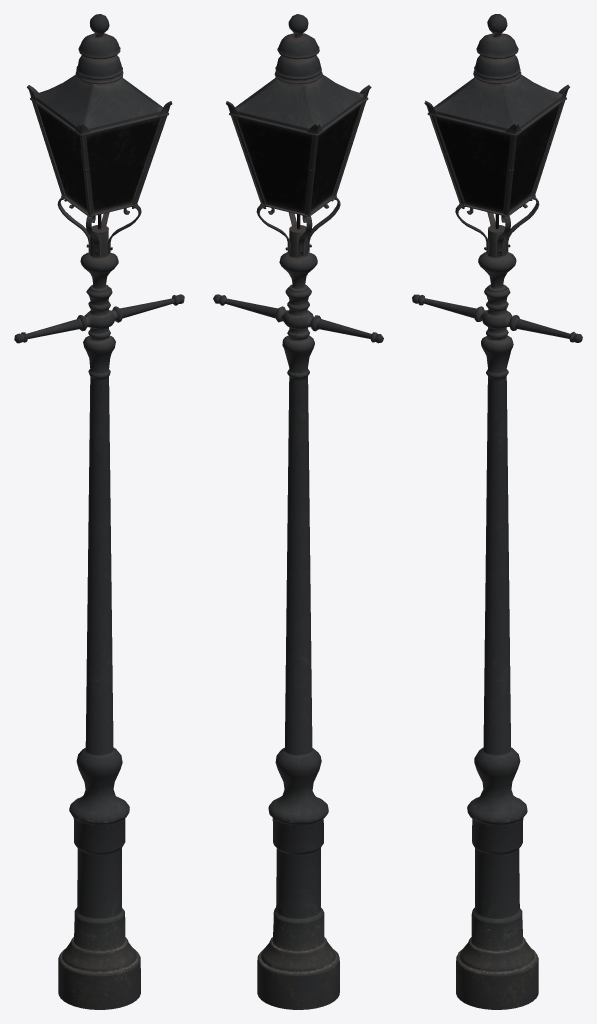
The model's file is street_lamp_01_lod2.glb.
3 renders of one model, left to right at view 1: azimuth 30°, elevation 25°; view 2: azimuth 150°, elevation 25°; view 3: azimuth 330°, elevation 25°, orthographic.
Parts seen in each view (by area): view 1: street_lamp_01; view 2: street_lamp_01; view 3: street_lamp_01.
Part boxes in pixels (x1,y1,x2,y2): street_lamp_01: (14,14,184,1009); street_lamp_01: (213,14,383,1009); street_lamp_01: (412,14,582,1009).
Size of the model in its own units: 0.7024 by 3.87 by 0.3865.
Materials: 3 (3 with a texture image).
